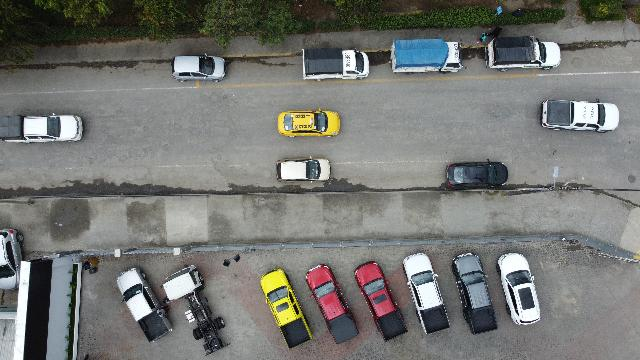Vehiculo: (354, 261, 408, 341), (260, 269, 312, 349), (306, 264, 358, 344), (116, 268, 172, 342), (402, 253, 450, 334), (451, 253, 497, 334), (496, 253, 540, 326), (540, 98, 620, 132), (391, 38, 463, 74), (485, 36, 561, 70), (1, 114, 83, 142), (302, 48, 370, 80), (278, 109, 340, 137), (446, 160, 508, 188), (160, 265, 204, 301), (172, 56, 226, 82), (276, 157, 330, 183), (1, 228, 23, 290)
